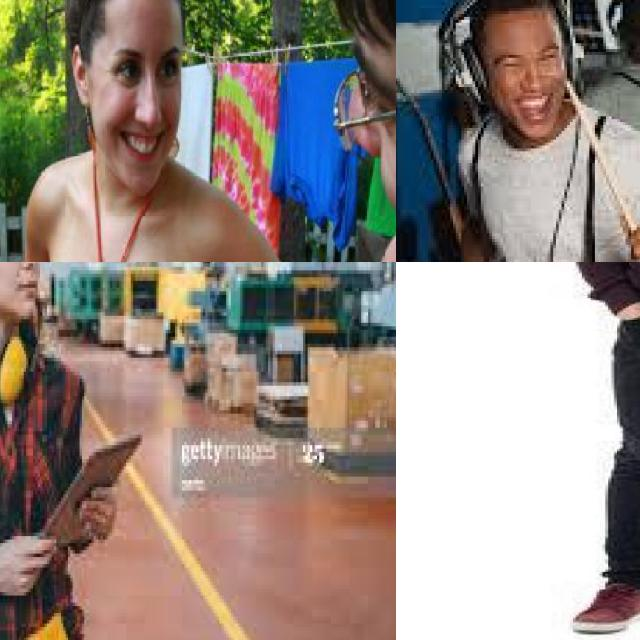Ear-protection: (439, 34, 489, 102), (0, 326, 26, 399), (558, 34, 586, 87), (609, 14, 625, 49)
face_nomask: (100, 46, 183, 167)
glasses: (0, 0, 286, 262), (317, 61, 396, 156), (80, 0, 187, 35)
person: (396, 0, 640, 262), (0, 262, 124, 640), (560, 262, 640, 635)
